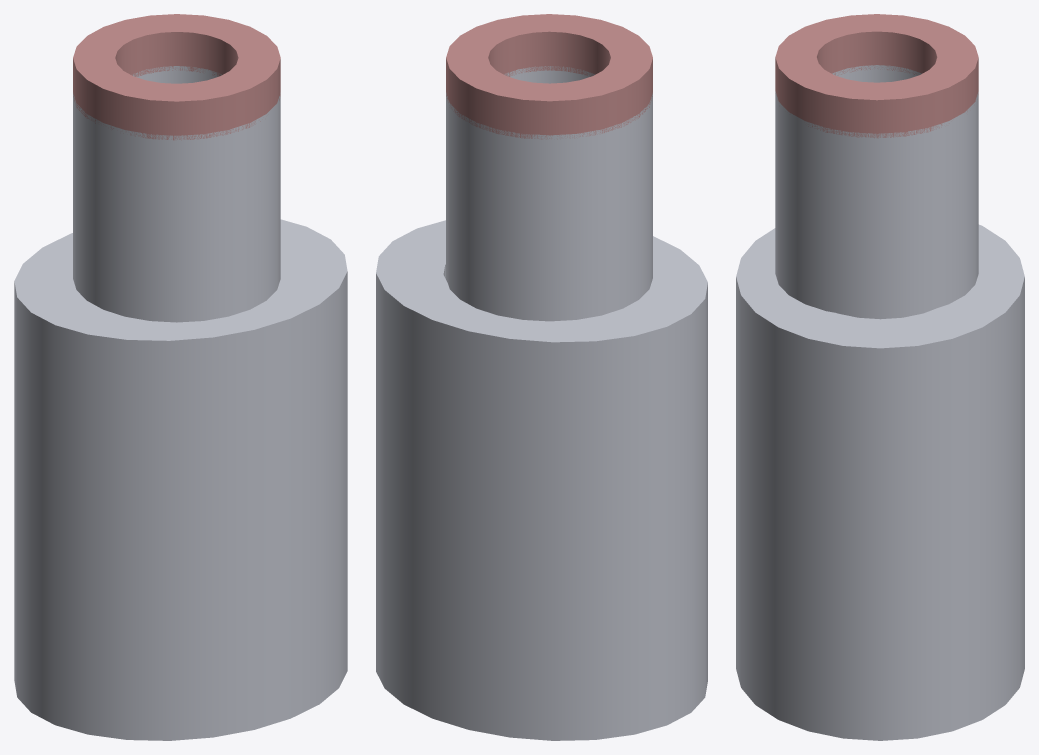
The model's file is Milk.fbx.
3 renders of one model, left to right at view 1: azimuth 30°, elevation 25°; view 2: azimuth 150°, elevation 25°; view 3: azimuth 270°, elevation 25°, orthographic.
Parts seen in each view (by area): view 1: mergedBlocks; view 2: mergedBlocks; view 3: mergedBlocks.
Boxes of the visible parts, left/top/right/bottom form: mergedBlocks: left=14, top=14, right=347, bottom=740; mergedBlocks: left=376, top=14, right=707, bottom=740; mergedBlocks: left=736, top=14, right=1024, bottom=740.
Size of the model in its own units: 2.35 by 4.66 by 2.
